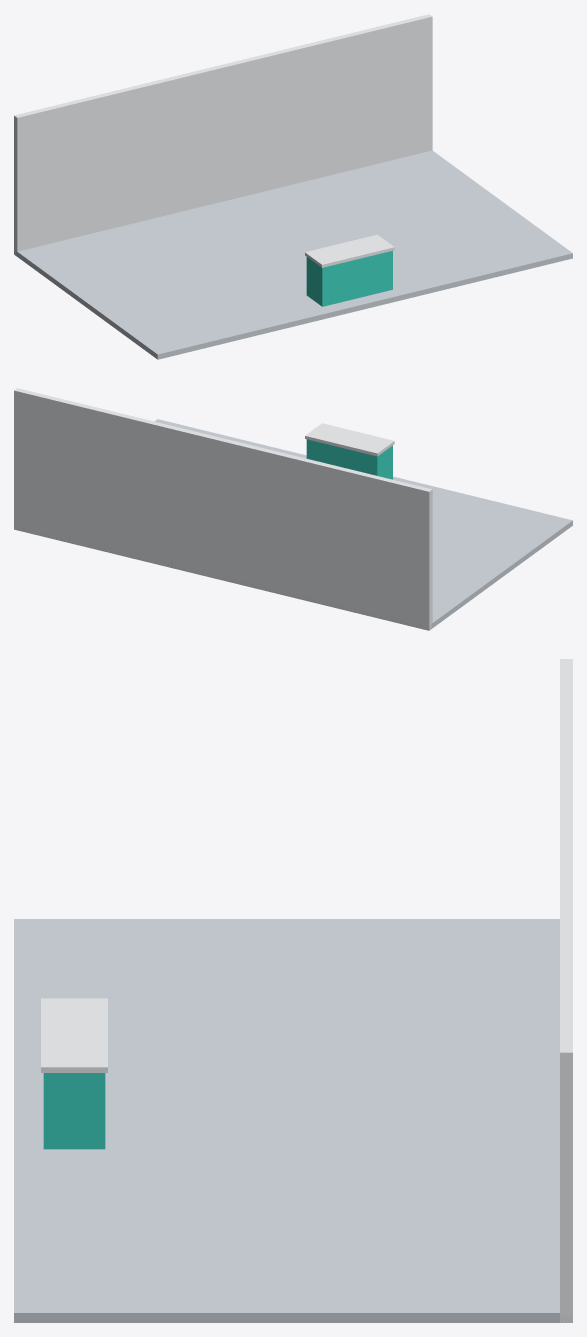
3 views of the same model, one above another, from view 1: azimuth 30°, elevation 25°; view 2: azimuth 150°, elevation 25°; view 3: azimuth 270°, elevation 25° (orthographic). The views are drawn at different scales.
Visible parts, largest first — view 1: Exhibition Booth Concept; view 2: Exhibition Booth Concept; view 3: Exhibition Booth Concept.
Boxes of the visible parts, x1=… form: Exhibition Booth Concept: x1=14, y1=14, x2=572, y2=359; Exhibition Booth Concept: x1=14, y1=388, x2=572, y2=630; Exhibition Booth Concept: x1=14, y1=659, x2=572, y2=1322.
Bounding box in the file's own units: 10 × 3.2 × 6.
